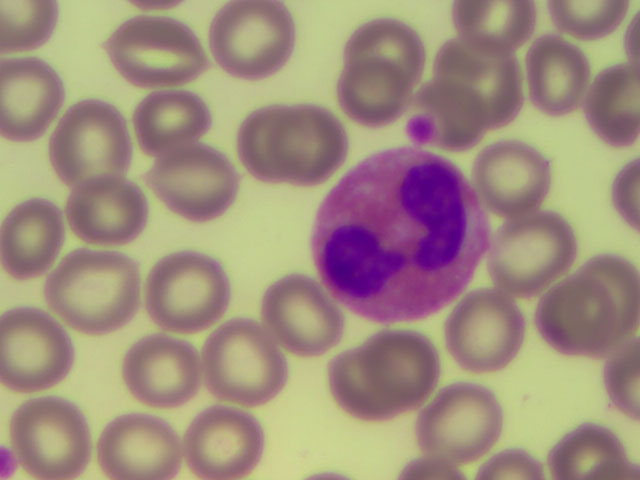Platelets: (408, 118, 433, 143), (1, 445, 15, 480)
RBC: (200, 315, 290, 403), (149, 140, 238, 225), (441, 42, 523, 124), (111, 16, 206, 86), (144, 255, 230, 330), (55, 256, 139, 332), (214, 1, 296, 76), (502, 205, 577, 286), (58, 107, 130, 191), (15, 401, 92, 478), (123, 334, 204, 406), (423, 387, 505, 458), (543, 273, 613, 353), (367, 334, 439, 410), (237, 102, 304, 183), (274, 106, 347, 180), (191, 408, 266, 480), (575, 252, 640, 332), (134, 86, 208, 156), (460, 294, 527, 371), (480, 145, 558, 211), (1, 56, 60, 143), (253, 274, 315, 356), (541, 424, 630, 480), (3, 312, 66, 390), (352, 24, 428, 88), (334, 350, 404, 418), (104, 421, 183, 480), (454, 1, 536, 54), (592, 59, 640, 149), (531, 40, 592, 110), (71, 180, 144, 237), (416, 78, 520, 117), (4, 205, 61, 275), (340, 63, 403, 123), (609, 332, 640, 419), (1, 1, 52, 51), (550, 1, 628, 31), (477, 449, 544, 480), (613, 153, 640, 224), (406, 456, 464, 480), (623, 16, 640, 64), (129, 1, 191, 9)
WBC: (328, 155, 468, 310)
